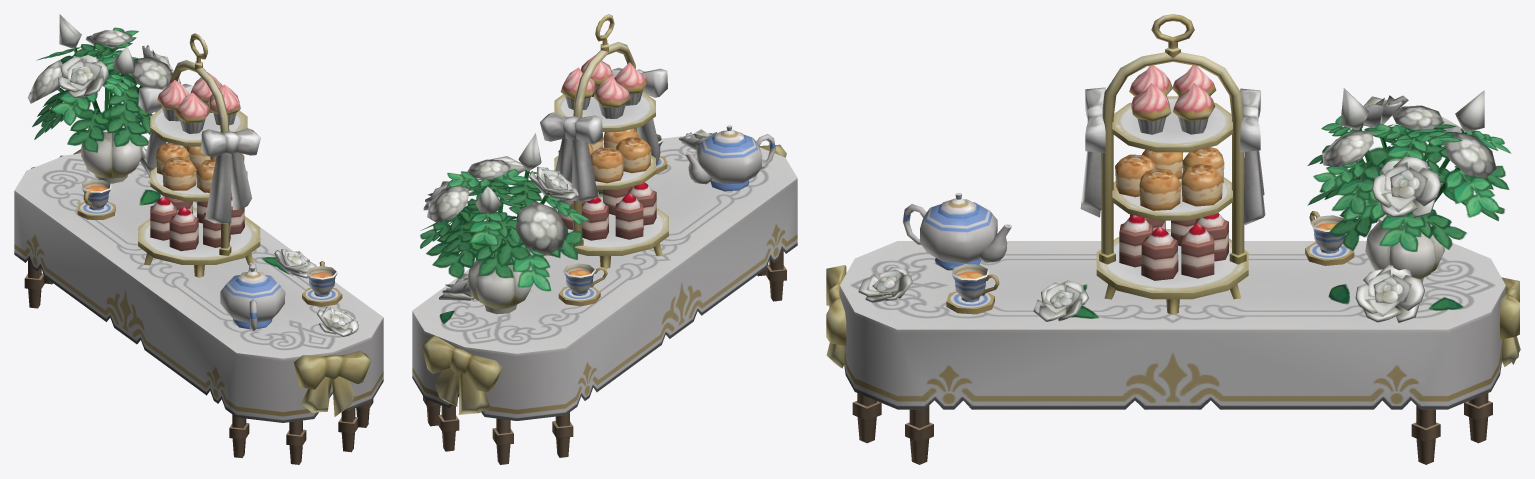
Rendered from my_teaparty_01_table_05.glb.
3 views of the same model, side by side, from view 1: azimuth 30°, elevation 25°; view 2: azimuth 150°, elevation 25°; view 3: azimuth 270°, elevation 25° (orthographic). The views are drawn at different scales.
Visible parts, largest first — view 1: my_teaparty_01_table_05; view 2: my_teaparty_01_table_05; view 3: my_teaparty_01_table_05.
Part boxes in pixels (box(x1,y1,x2,y2)): my_teaparty_01_table_05: box(14, 14, 383, 464); my_teaparty_01_table_05: box(412, 14, 797, 464); my_teaparty_01_table_05: box(826, 14, 1520, 464).
Size of the model in its own units: 0.00516 by 0.0104 by 0.0159.
2 materials, 2 textured.
